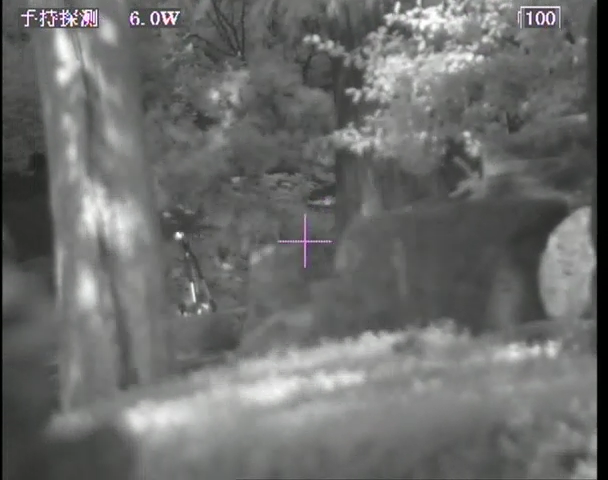my: (173, 228, 186, 243)
